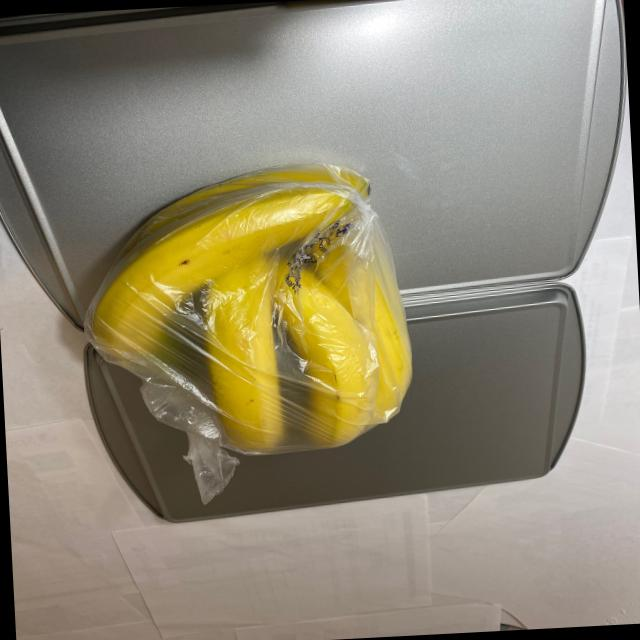banana: (74, 159, 419, 469)
